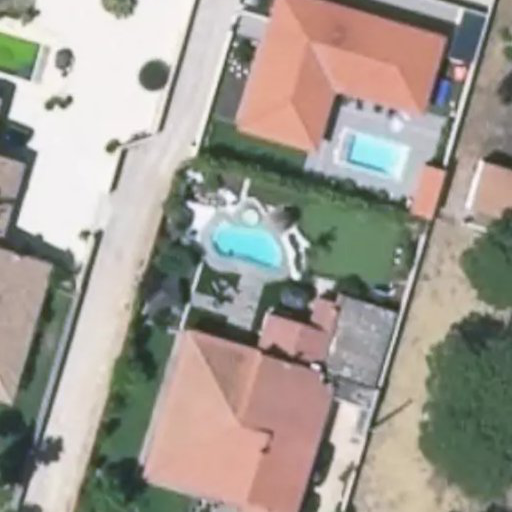pool: (208, 215, 285, 268), (336, 129, 409, 175)
